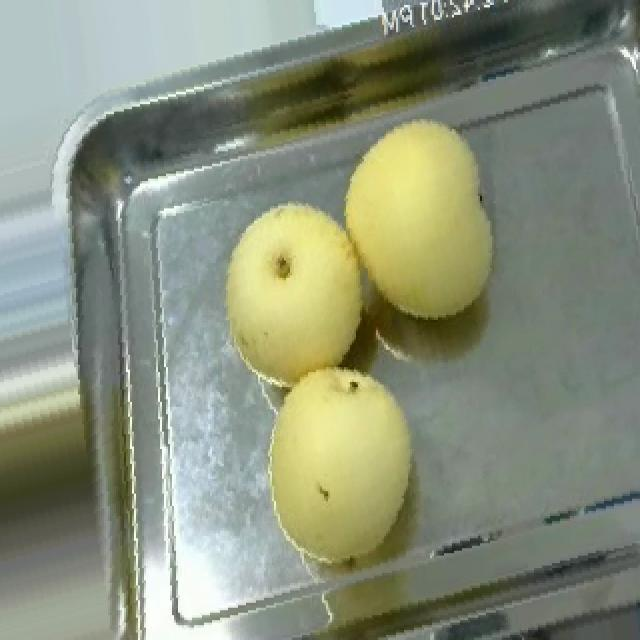Fruit: (320, 94, 518, 340), (244, 350, 440, 580), (206, 181, 388, 402), (0, 362, 136, 593)
